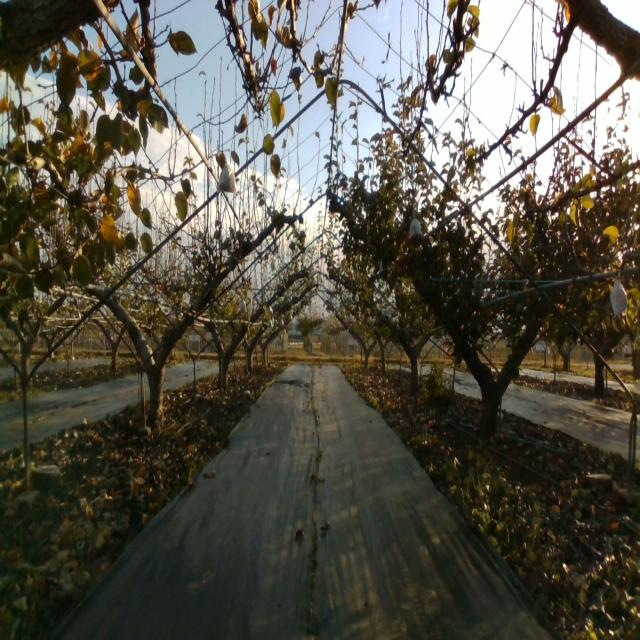pearbags: (217, 156, 238, 194), (610, 277, 628, 317), (408, 214, 423, 240)
